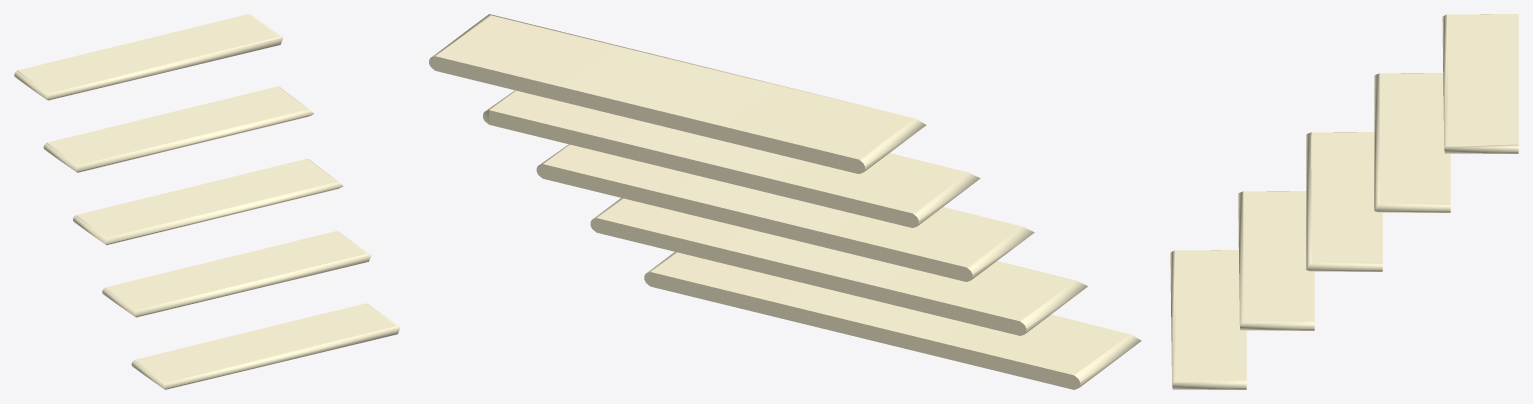
The picture shows the model from 3 angles, left to right: view 1: azimuth 30°, elevation 25°; view 2: azimuth 150°, elevation 25°; view 3: azimuth 270°, elevation 25°; orthographic projection. The views are drawn at different scales.
Parts seen in each view (by area): view 1: ArtDecoStairs.003; view 2: ArtDecoStairs.003; view 3: ArtDecoStairs.003.
Part boxes in pixels (left/top/right/bottom): ArtDecoStairs.003: left=14, top=14, right=400, bottom=389; ArtDecoStairs.003: left=429, top=14, right=1141, bottom=389; ArtDecoStairs.003: left=1170, top=14, right=1518, bottom=389.
Size of what is drawn, in the model's own units: 1.4 by 1.19 by 1.53.
Materials: 1 (1 with a texture image).
